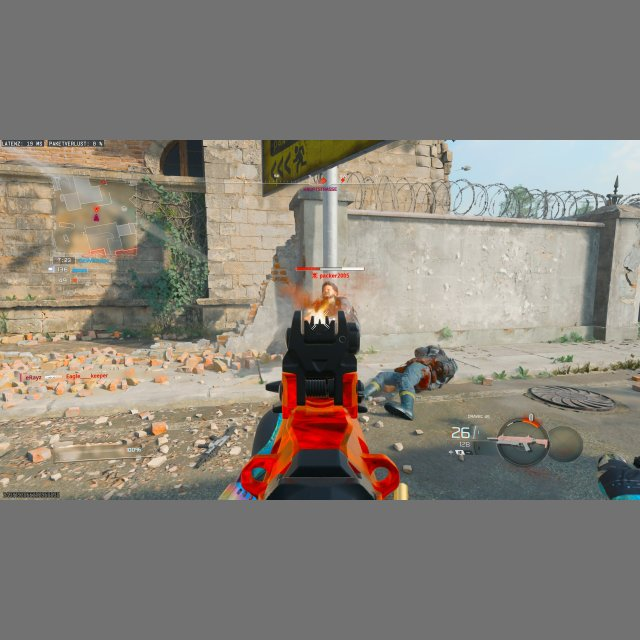head: (322, 282, 338, 297)
